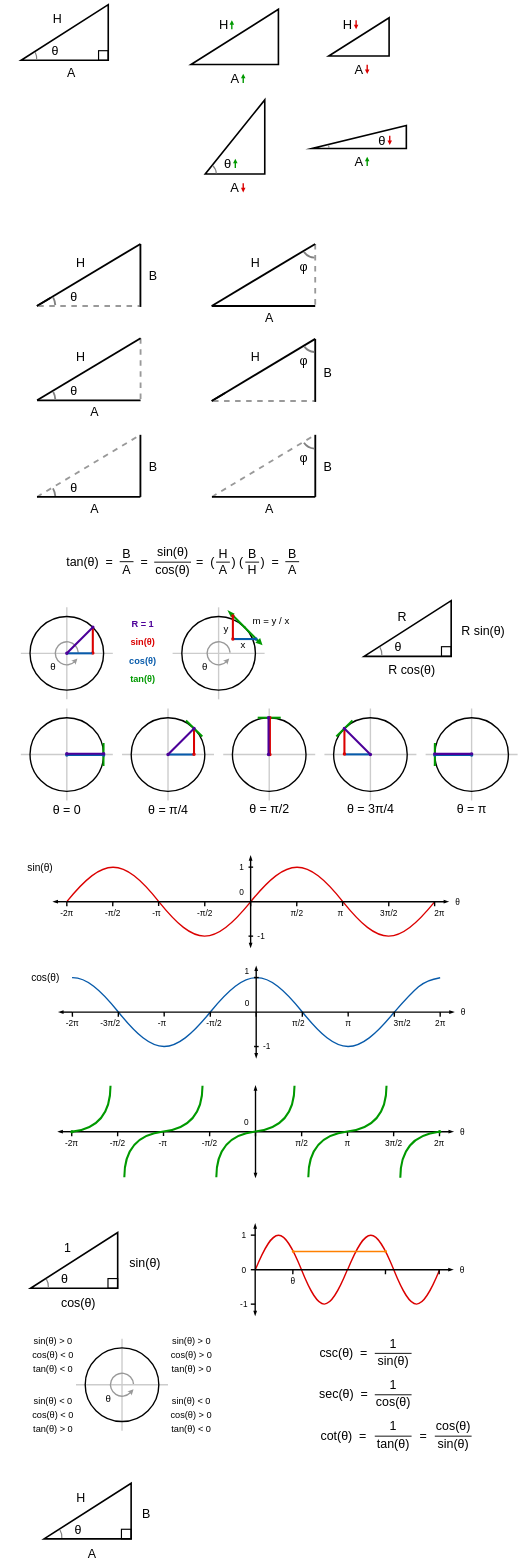
Image size: 523x1565. Some labels were removed from this diagram. Each missing label, with the centre of its shape:
"tan( θ)" belongs at point 46,1132.
"θ + 2π" belongs at point 393,1269.
